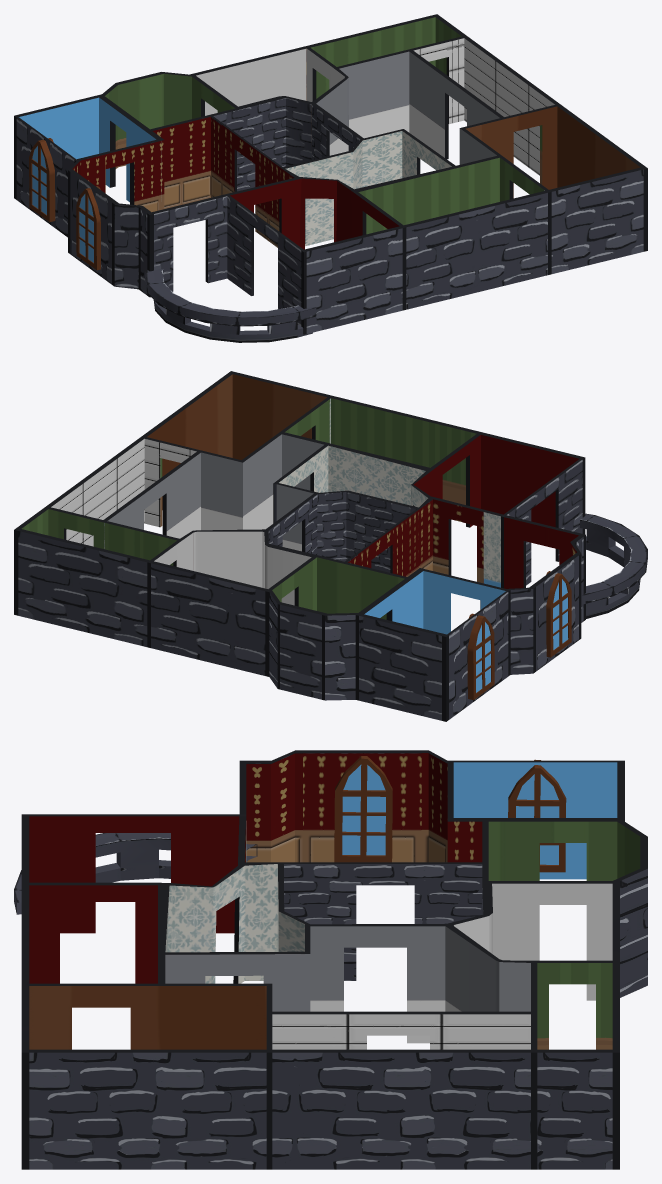
The model's file is Wall.fbx.
3 renders of one model, top to bottom at view 1: azimuth 30°, elevation 25°; view 2: azimuth 150°, elevation 25°; view 3: azimuth 270°, elevation 25°, orthographic. The views are drawn at different scales.
Visible parts, largest first — view 1: pPlane8, Windows:pCube3, Windows2:pCube3; view 2: pPlane8, Windows:pCube3, Windows2:pCube3; view 3: pPlane8, Windows2:pCube3, Windows:pCube3.
Part boxes in pixels (x1,y1,x2,y2): pPlane8: (14, 14, 647, 342); Windows:pCube3: (29, 138, 55, 222); Windows2:pCube3: (76, 186, 100, 270); pPlane8: (14, 371, 647, 721); Windows:pCube3: (467, 613, 494, 699); Windows2:pCube3: (546, 571, 571, 657); pPlane8: (14, 750, 647, 1169); Windows2:pCube3: (334, 756, 392, 862); Windows:pCube3: (508, 759, 566, 872).
Bounding box in the file's own units: 53.96 × 10.8 × 47.33.
